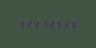five: (52, 20, 58, 28)
one: (38, 19, 44, 27)
six: (66, 20, 72, 28)
three: (17, 19, 23, 27)
two: (45, 19, 51, 28), (24, 19, 30, 27), (31, 19, 37, 27), (59, 20, 65, 28)
